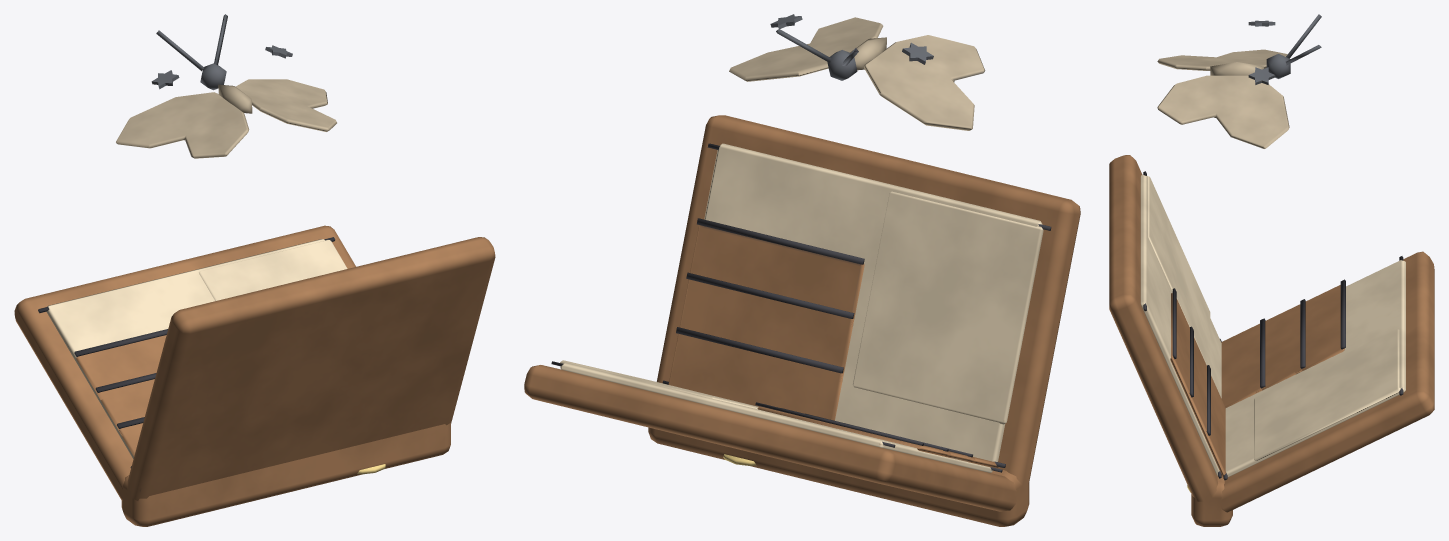
File: FimMes_EmptyWallet.fbx
3 views of the same model, side by side, from view 1: azimuth 30°, elevation 25°; view 2: azimuth 150°, elevation 25°; view 3: azimuth 270°, elevation 25° (orthographic). The views are drawn at different scales.
Visible parts, largest first — view 1: FimMes_EmptyWallet; view 2: FimMes_EmptyWallet; view 3: FimMes_EmptyWallet.
Boxes of the visible parts, bbox=[...] form: FimMes_EmptyWallet: bbox=[14, 14, 495, 526]; FimMes_EmptyWallet: bbox=[524, 14, 1080, 526]; FimMes_EmptyWallet: bbox=[1109, 14, 1434, 526].
Size of the model in its own units: 0.42 by 0.5474 by 0.3925.
1 material, 1 textured.
